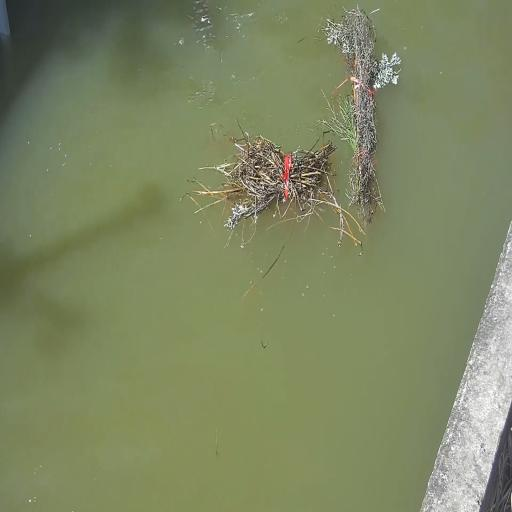twig: (325, 1, 403, 215), (210, 126, 342, 238)
